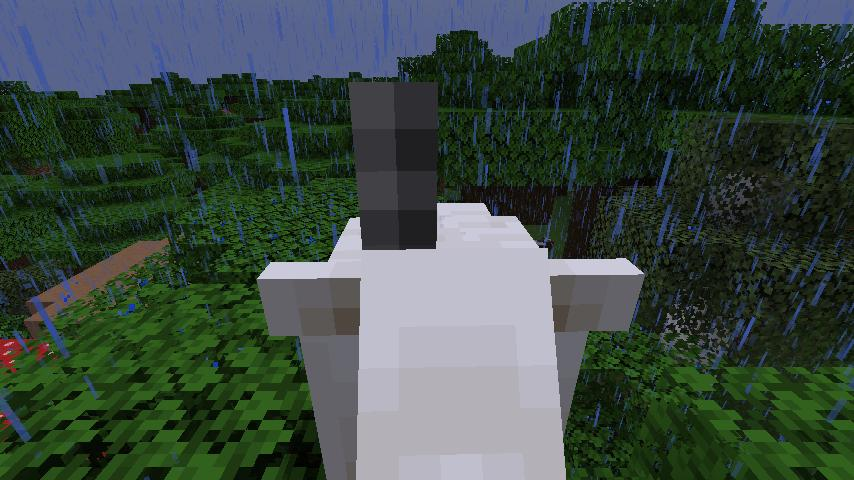goat: (256, 69, 647, 480)
